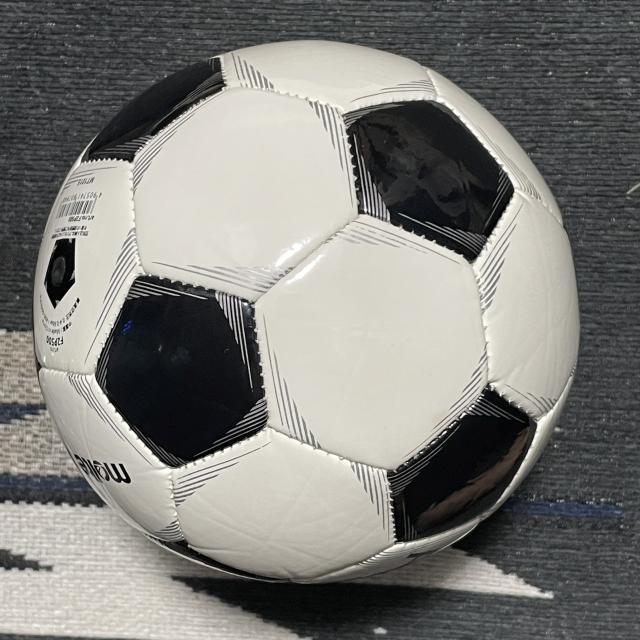ball: (36, 41, 578, 583)
